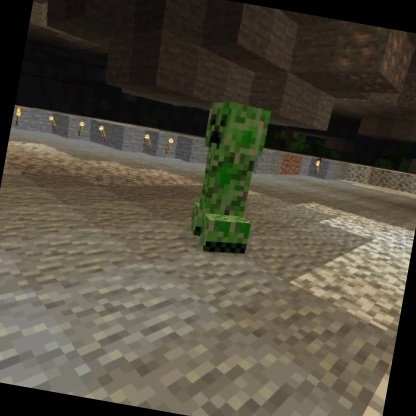creeper: (181, 94, 277, 263)
